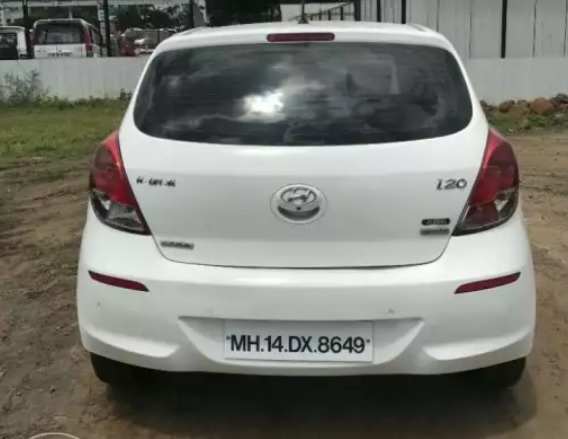licenseplate: (221, 313, 379, 366)
